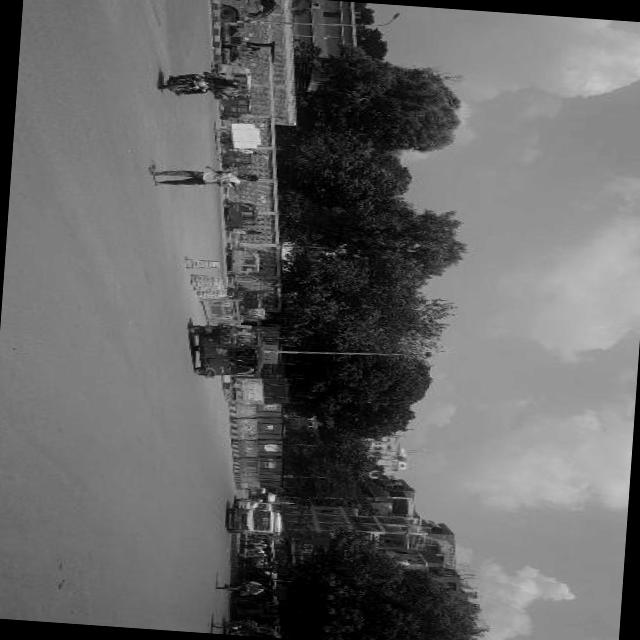bus: (228, 506, 282, 537)
motorcycle: (186, 321, 268, 380), (156, 65, 220, 101), (221, 196, 261, 232), (225, 248, 263, 280), (220, 92, 252, 122), (220, 64, 252, 92), (220, 155, 253, 170), (236, 288, 262, 307), (240, 306, 268, 322)
